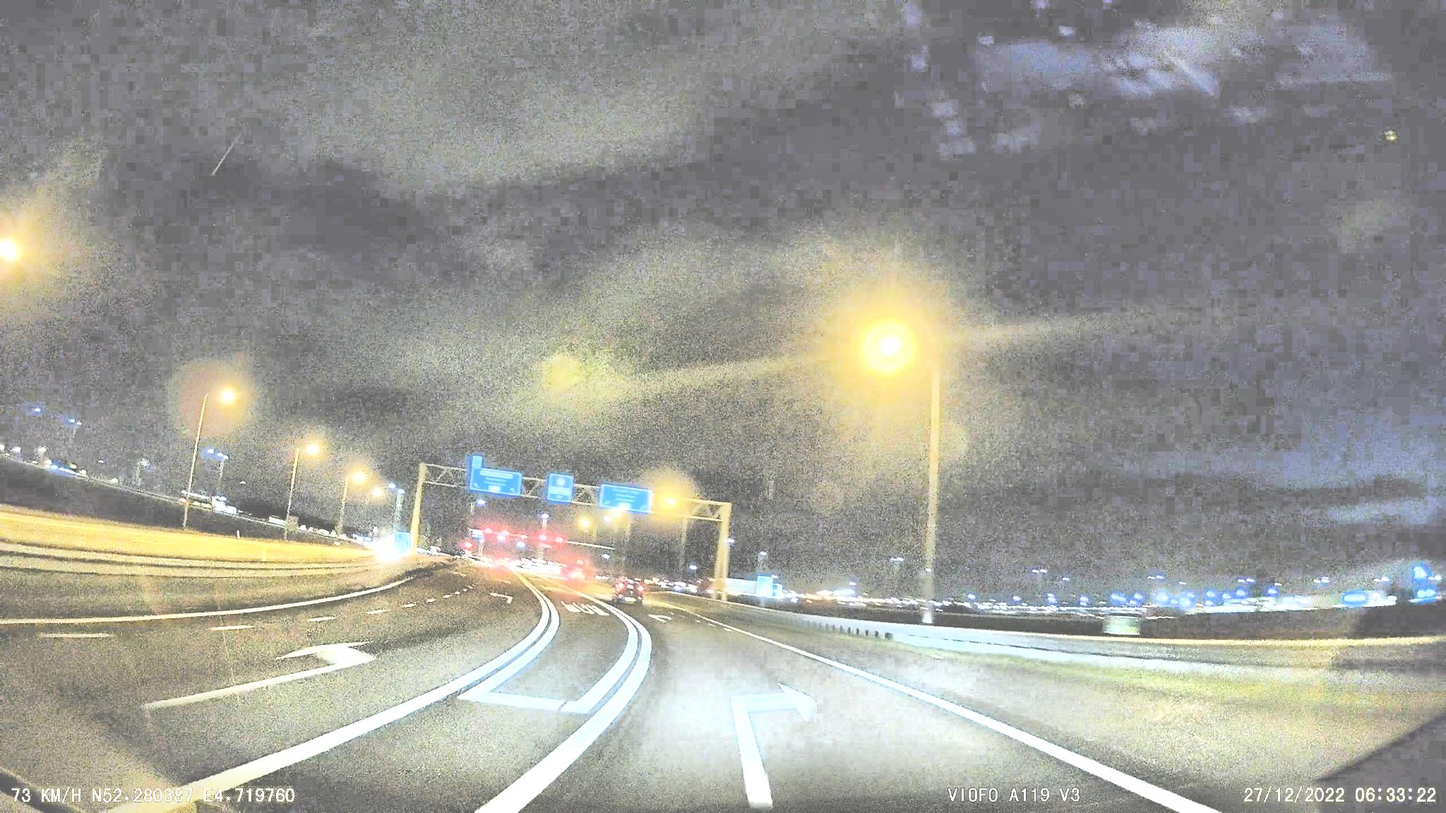Roads: (0, 574, 1446, 813)
